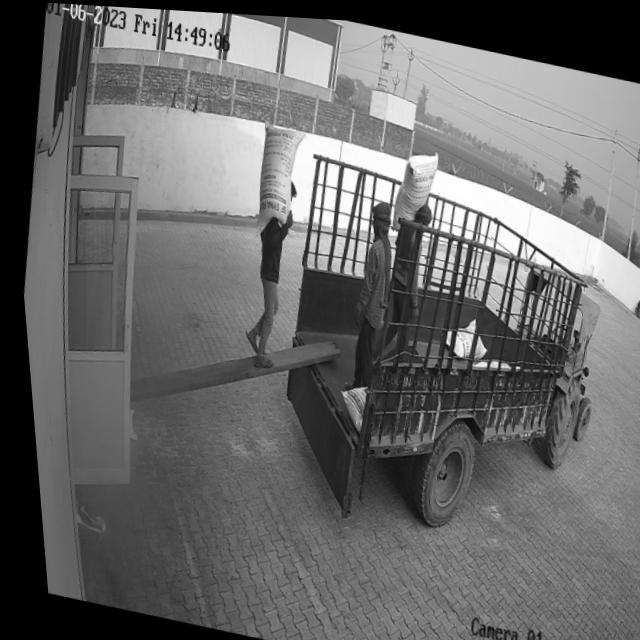sack: (245, 114, 310, 238), (382, 138, 441, 236)
